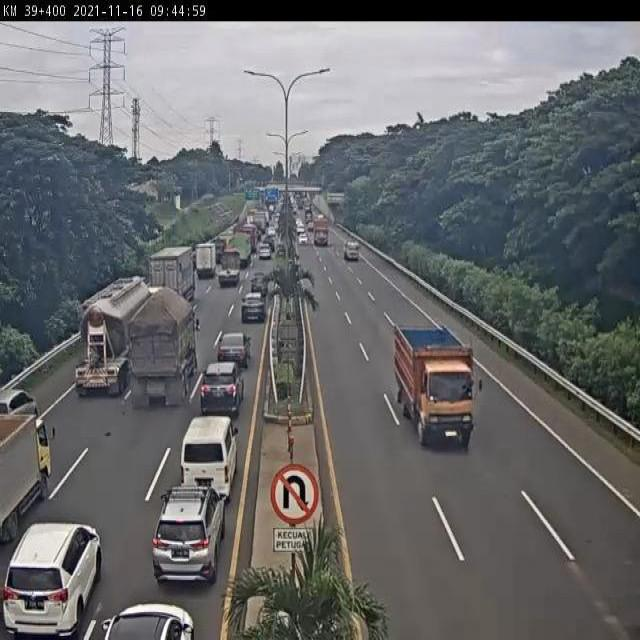car: (152, 488, 225, 581), (200, 361, 244, 415), (215, 333, 248, 368), (241, 292, 268, 325), (248, 276, 266, 301)
small bus: (179, 420, 237, 497)
truck-l-: (128, 294, 198, 406), (150, 246, 199, 310), (224, 236, 249, 272)
truck-m-: (394, 320, 474, 449), (218, 248, 246, 287), (196, 243, 218, 280)
truck-xl-: (72, 276, 162, 399)
